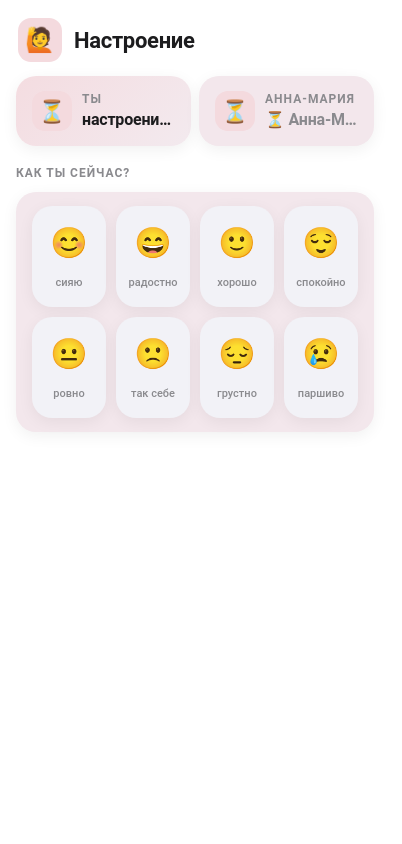
Scenario: Mood — partner name preservation + error surfacing › surfaces an inline error when save() fails
# Pick a mood (first option), then click "Сохранить".
Click the radio button labelled "😊 сияю": [69, 256] box [32,206,106,307]
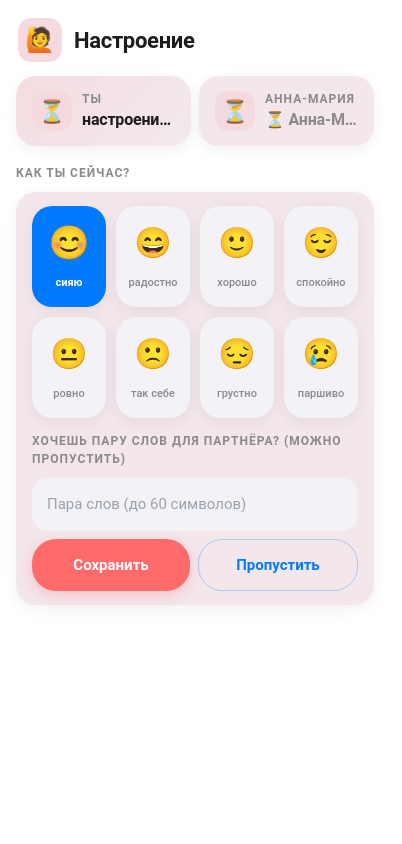
Click the button "Сохранить": [111, 565] box [32,538,190,591]
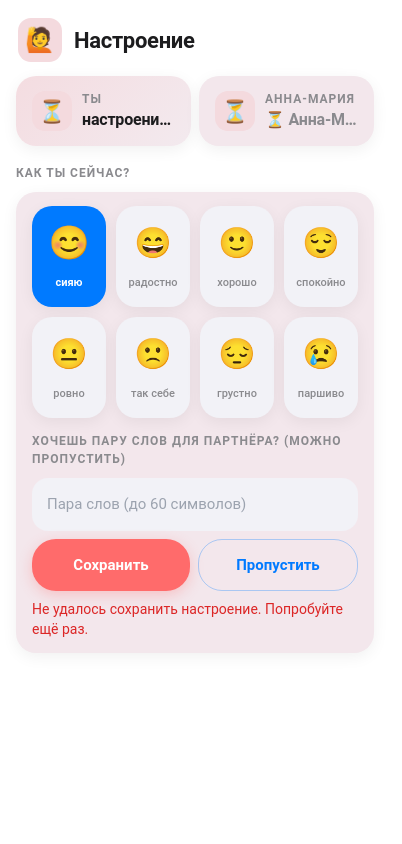
Now the message shows "Не удалось сохранить настроение", box [32,601,343,637]
